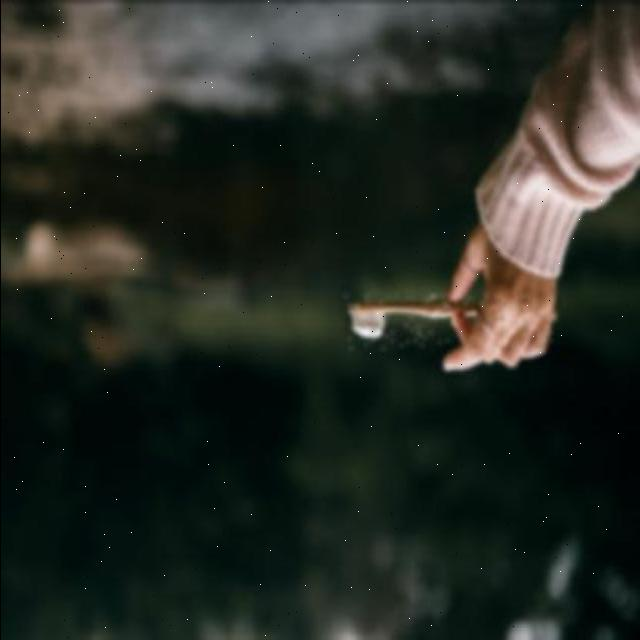toothbrush: (344, 294, 558, 348)
